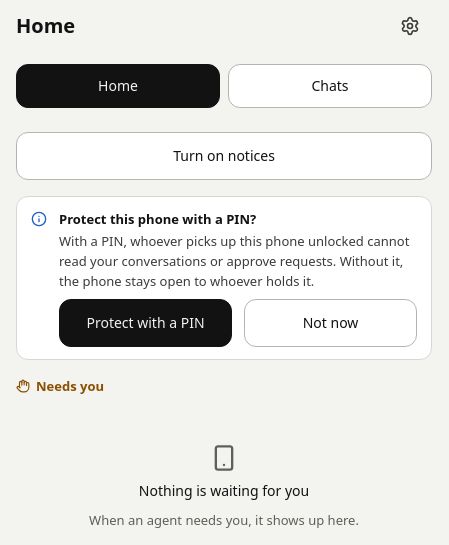
Scenario: the notice on the inbox › gives the reason, and does not come back after not now
Check: the text "Protect this phone with a PIN?" is shown, box left=59, top=210, right=256, bottom=228
What coordinates should you click on to do the following:
click the button "Not now"
I would click on:
 (330, 323)
Its box is left=244, top=299, right=417, bottom=347.
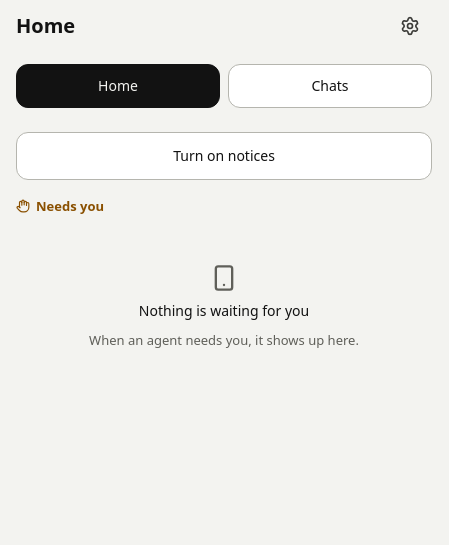
Check: the text "Protect this phone with a PIN?" is gone
